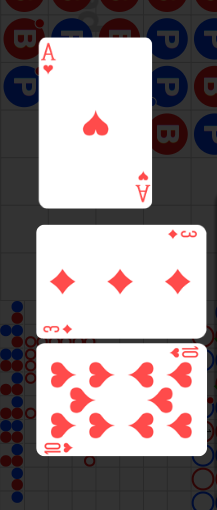10H: (43, 440, 75, 455)
3D: (166, 228, 198, 240)
AH: (41, 42, 58, 77)
